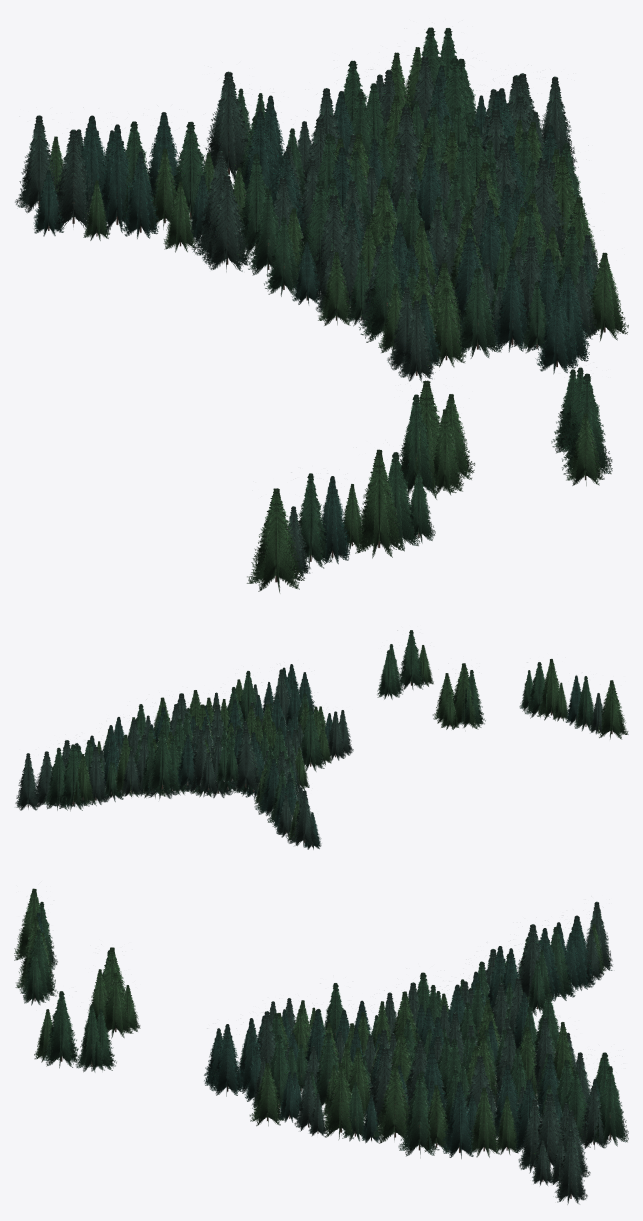
File: pines_1_1.glb
3 renders of one model, top to bottom at view 1: azimuth 30°, elevation 25°; view 2: azimuth 150°, elevation 25°; view 3: azimuth 270°, elevation 25°, orthographic. The views are drawn at different scales.
Visible parts, largest first — view 1: f; view 2: f; view 3: f.
Boxes of the visible parts, x1=… form: f: x1=15, y1=27, x2=628, y2=592; f: x1=15, y1=630, x2=628, y2=849; f: x1=14, y1=888, x2=628, y2=1204.
Bounding box in the file's own units: 90.52 × 25.65 × 95.53.
1 material, 1 textured.
